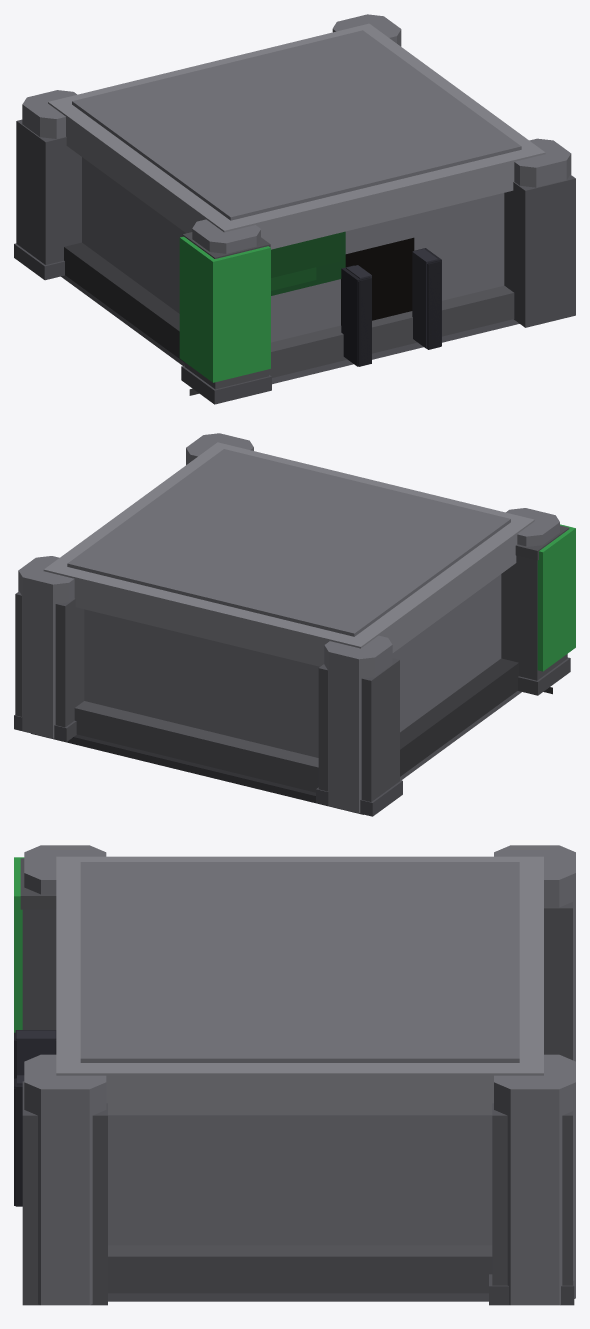
Rendered from PocketDragonSil.fbx.
The picture shows the model from 3 angles, top to bottom: view 1: azimuth 30°, elevation 25°; view 2: azimuth 150°, elevation 25°; view 3: azimuth 270°, elevation 25°; orthographic projection. The views are drawn at different scales.
Visible parts, largest first — view 1: PD_S_All; view 2: PD_S_All; view 3: PD_S_All.
Part boxes in pixels (x1,y1,x2,y2): PD_S_All: (14,14,575,404); PD_S_All: (14,433,575,816); PD_S_All: (14,845,575,1305).
Bounding box in the file's own units: 45.84 × 20 × 43.84.
